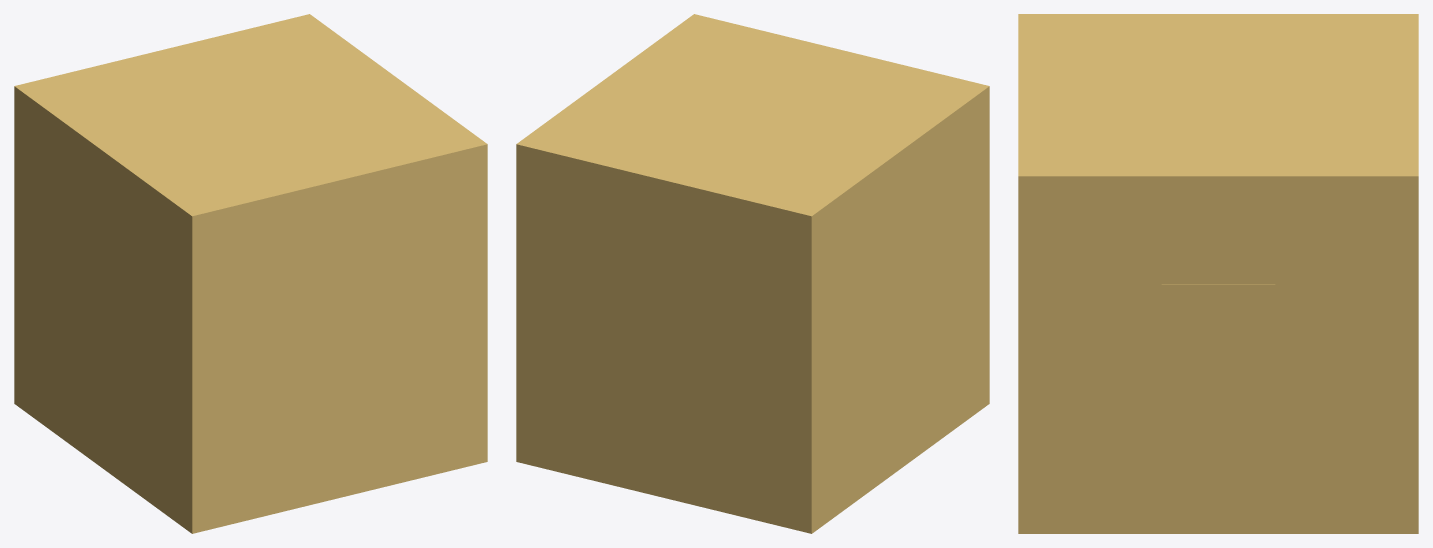
File: Wall.fbx
3 views of the same model, side by side, from view 1: azimuth 30°, elevation 25°; view 2: azimuth 150°, elevation 25°; view 3: azimuth 270°, elevation 25° (orthographic). The views are drawn at different scales.
Parts seen in each view (by area): view 1: Cube.006; view 2: Cube.006; view 3: Cube.006.
Boxes of the visible parts, left/top/right/bottom form: Cube.006: left=14, top=14, right=487, bottom=533; Cube.006: left=516, top=14, right=989, bottom=533; Cube.006: left=1018, top=14, right=1418, bottom=533.
Bounding box in the file's own units: 81.91 × 84.08 × 85.35.
